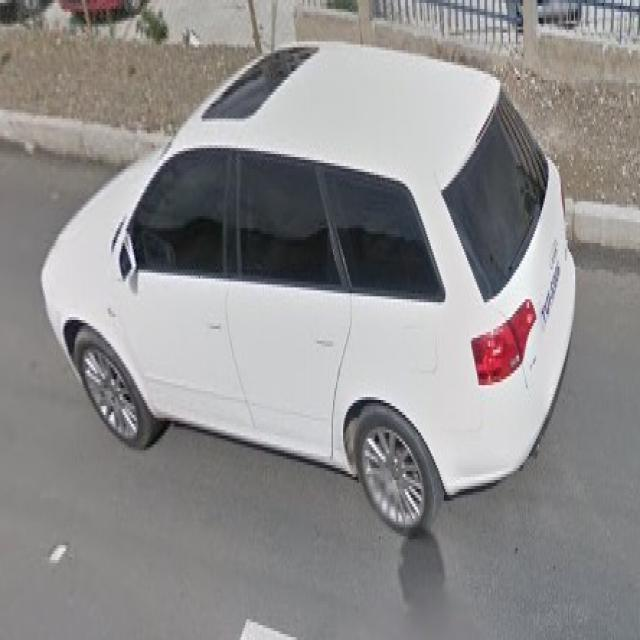car: (40, 40, 578, 536)
